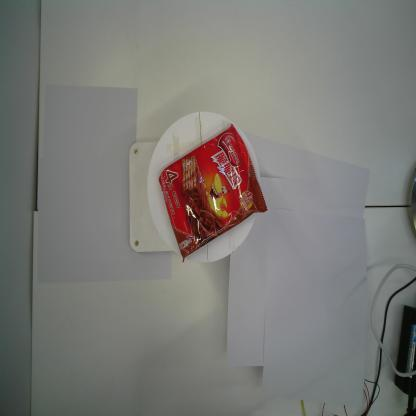Dessert: (158, 124, 269, 263)
